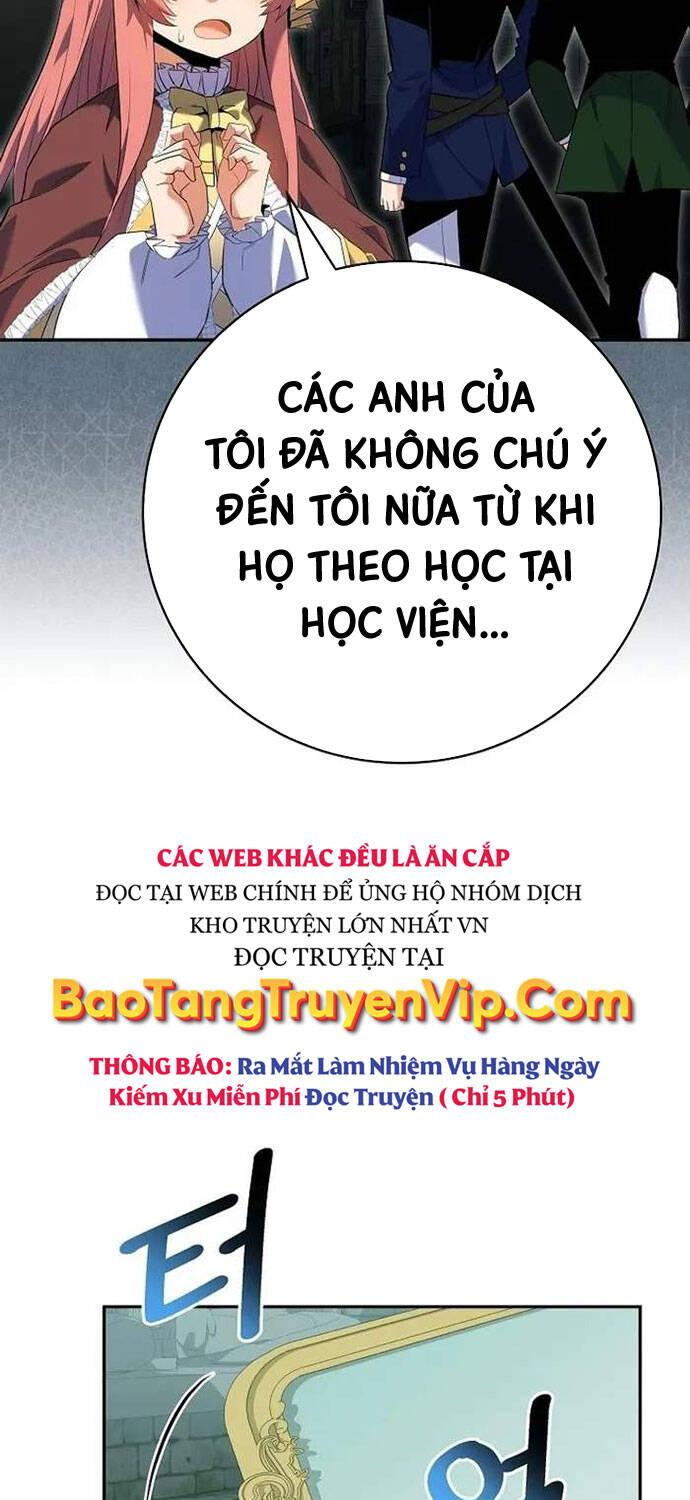quangcao: (46, 836, 642, 1118)
